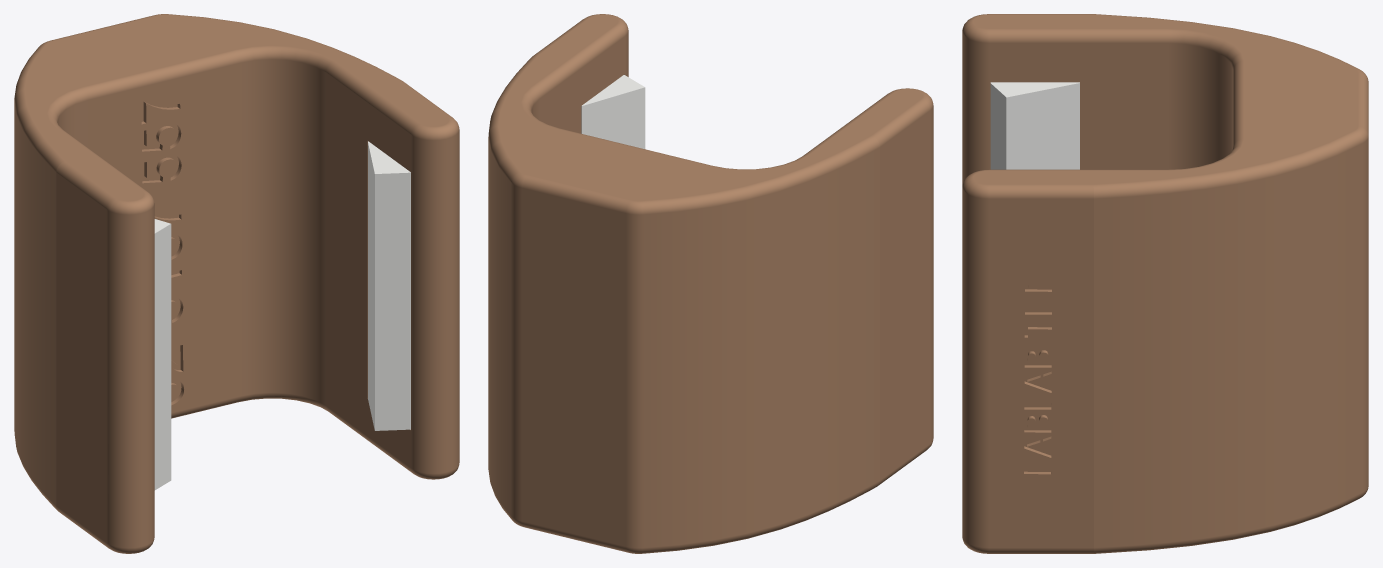
Rendered from Assemblage Cale COB.obj.
3 views of the same model, side by side, from view 1: azimuth 30°, elevation 25°; view 2: azimuth 150°, elevation 25°; view 3: azimuth 270°, elevation 25° (orthographic). The views are drawn at different scales.
Parts seen in each view (by area): view 1: Corps1, Corps1:2, Corps1:1; view 2: Corps1, Corps1:2; view 3: Corps1, Corps1:1.
Boxes of the visible parts, bbox=[...] form: Corps1: bbox=[14, 14, 459, 553]; Corps1:2: bbox=[368, 141, 410, 430]; Corps1:1: bbox=[154, 219, 171, 490]; Corps1: bbox=[488, 14, 933, 553]; Corps1:2: bbox=[581, 75, 645, 148]; Corps1: bbox=[962, 14, 1368, 553]; Corps1:1: bbox=[990, 82, 1079, 169].
Bounding box in the file's own units: 7.8 × 7.5 × 7.5.
